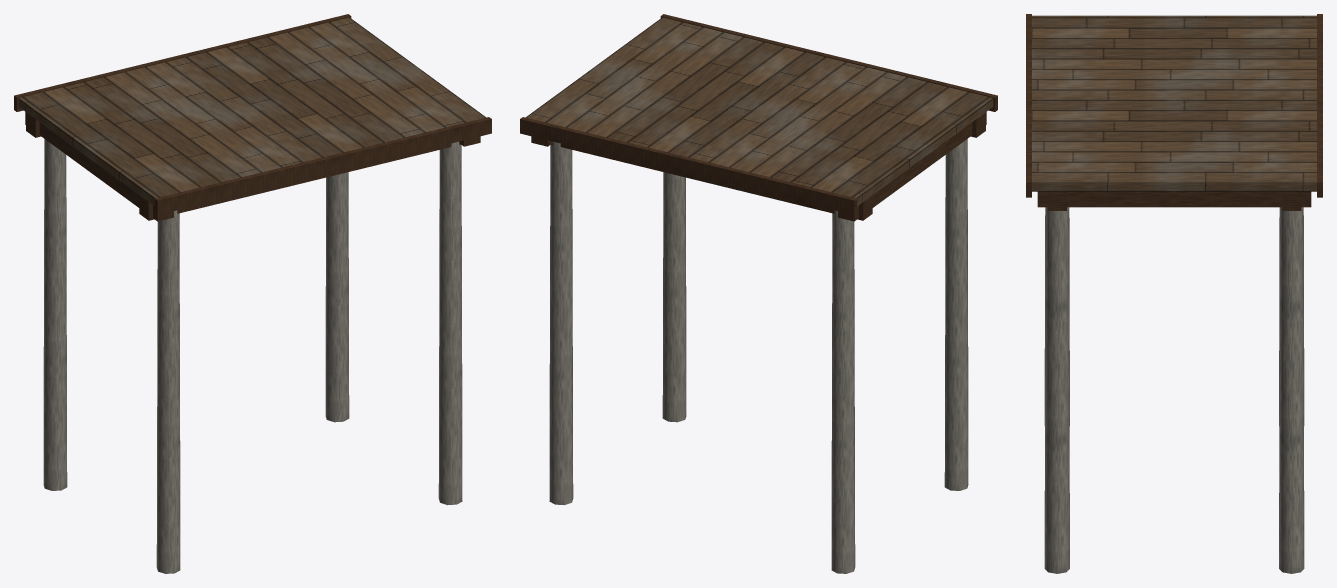
The model's file is SM_Art_Pier_405x300x100_P450.gltf.
3 renders of one model, left to right at view 1: azimuth 30°, elevation 25°; view 2: azimuth 150°, elevation 25°; view 3: azimuth 270°, elevation 25°, orthographic. The views are drawn at different scales.
Parts seen in each view (by area): view 1: SM_Art_Pier_405x300x100_P450; view 2: SM_Art_Pier_405x300x100_P450; view 3: SM_Art_Pier_405x300x100_P450.
Boxes of the visible parts, bbox=[...] form: SM_Art_Pier_405x300x100_P450: bbox=[14, 14, 491, 573]; SM_Art_Pier_405x300x100_P450: bbox=[520, 14, 997, 573]; SM_Art_Pier_405x300x100_P450: bbox=[1026, 14, 1322, 573].
Size of the model in its own units: 4.09 by 4.51 by 3.04.
Materials: 3 (3 with a texture image).
